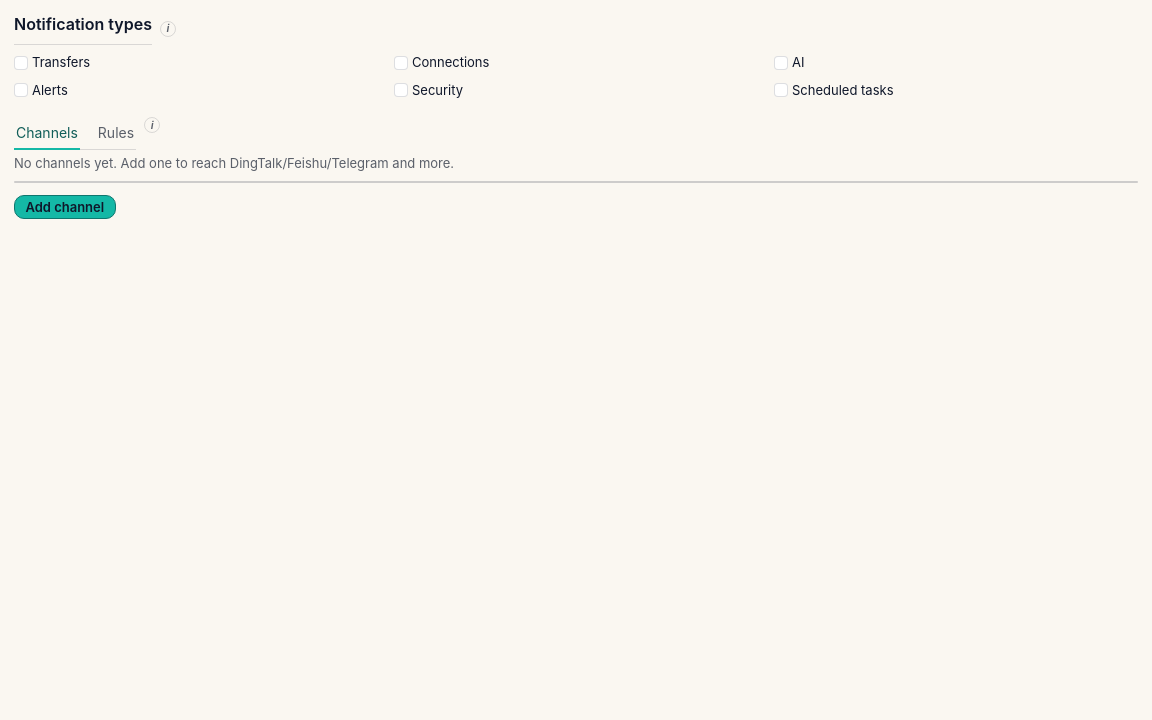
Scenario: AlertSettings 渠道区 › 添加渠道：选类型→填字段→保存（nc_create 载荷=字段面）+ 重挂载
The image size is (1152, 720).
Step 1. Click the button with test id "alert-add-channel" → (65, 207), box [14,195,116,219]
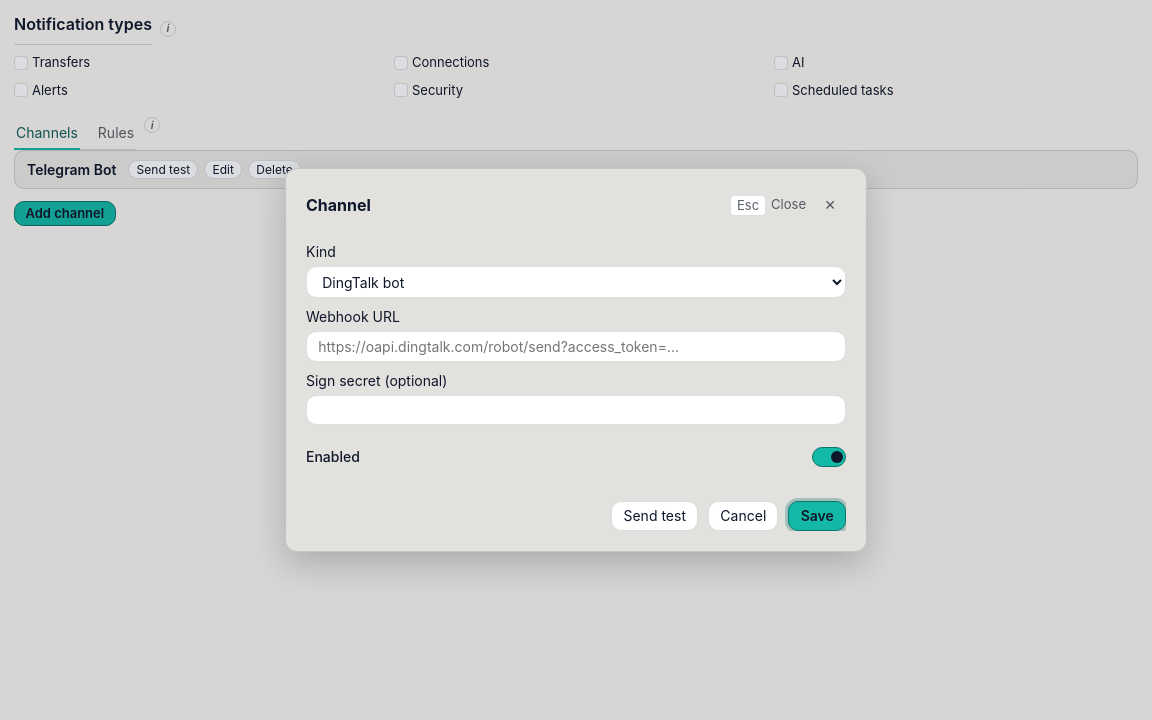
Step 2. Select "Telegram Bot" in the dropdown with test id "alert-channel-kind" → (576, 282), box [306,266,846,298]
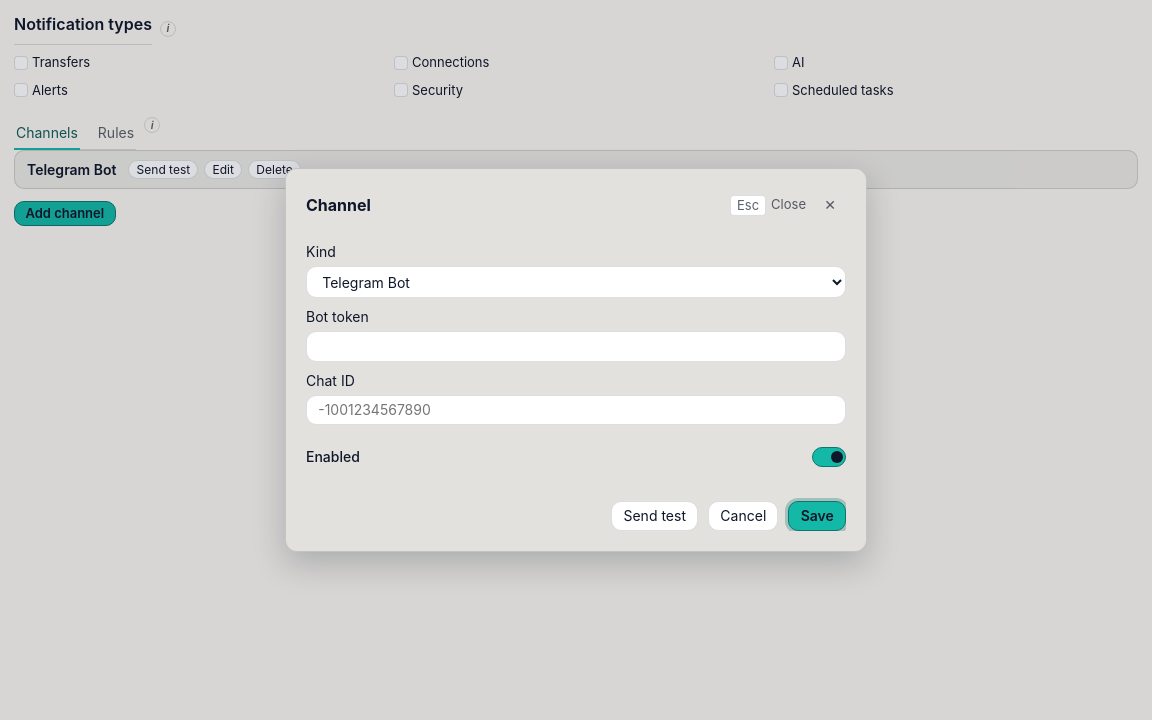
Step 3. Type "TOK" into the password field with test id "alert-field-bot_token" → (576, 346), box [306,331,846,362]
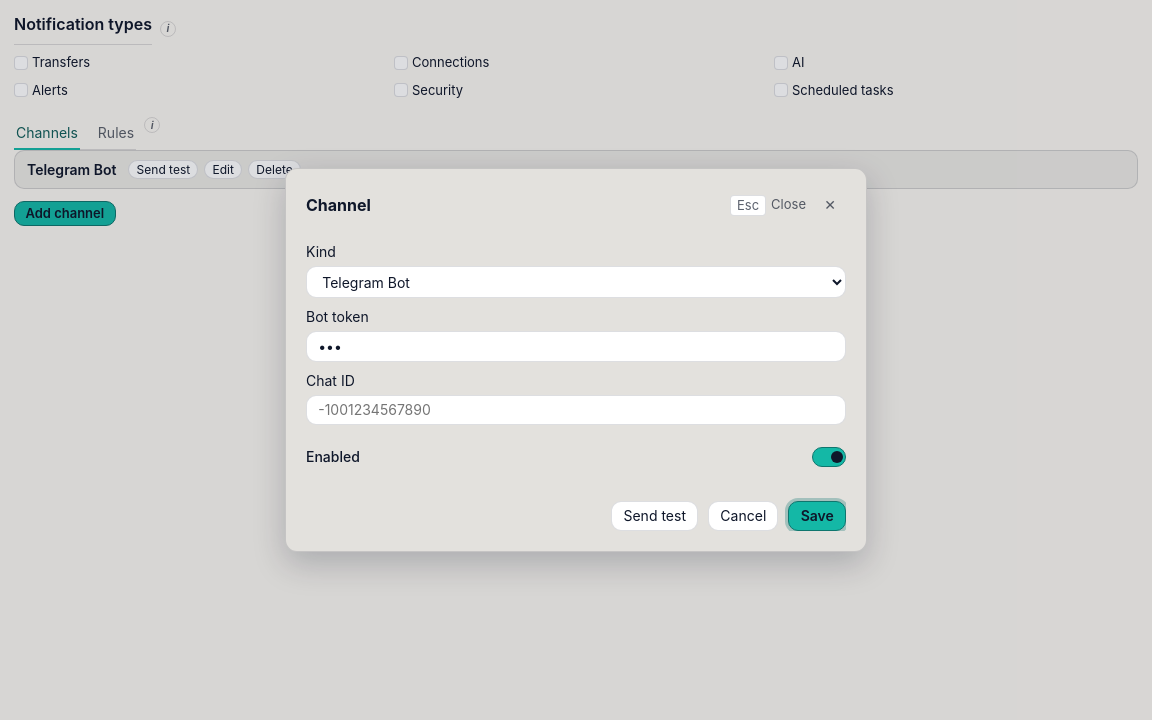
Step 4. Type "-1" into the field with test id "alert-field-chat_id" → (576, 410), box [306,394,846,425]
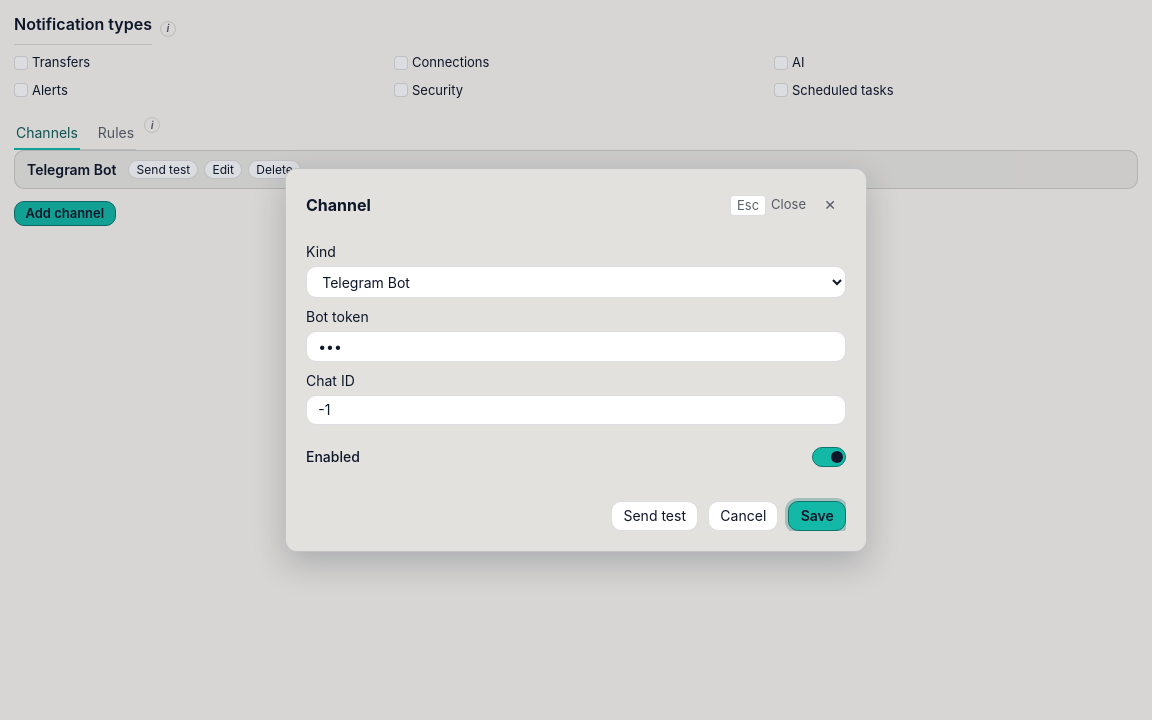
Step 5. Click the button with test id "alert-channel-save" → (817, 516), box [788,501,846,531]
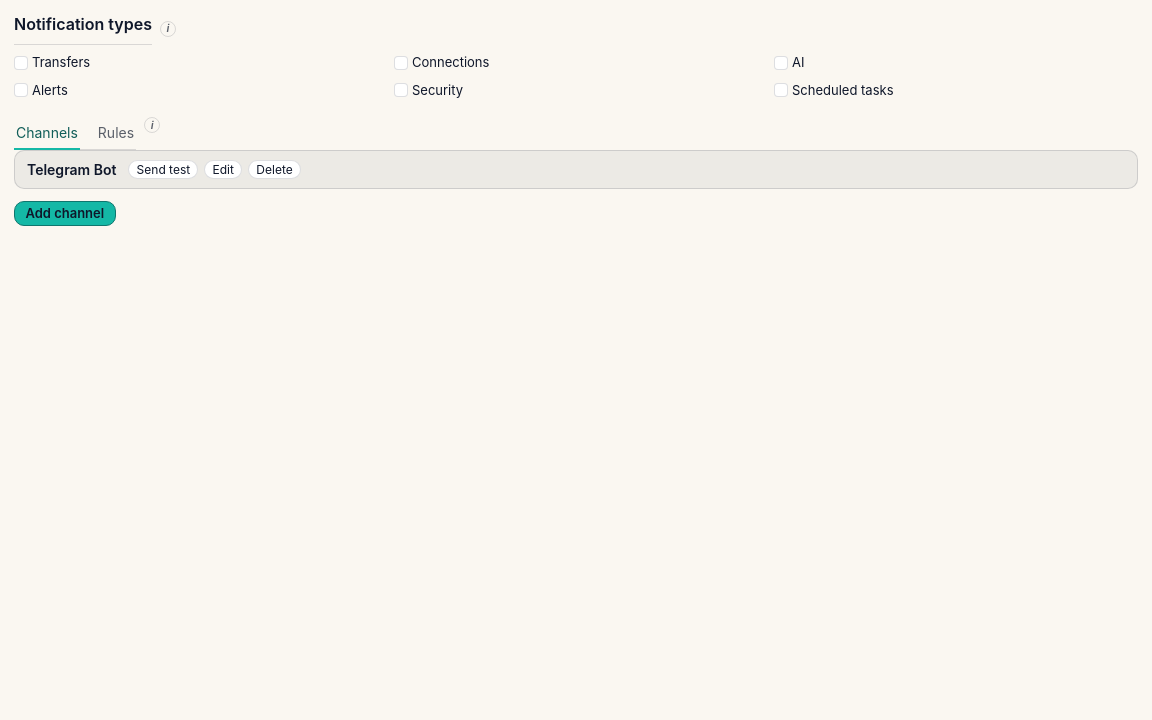
Now the form with test id "alert-channel-form" is gone
